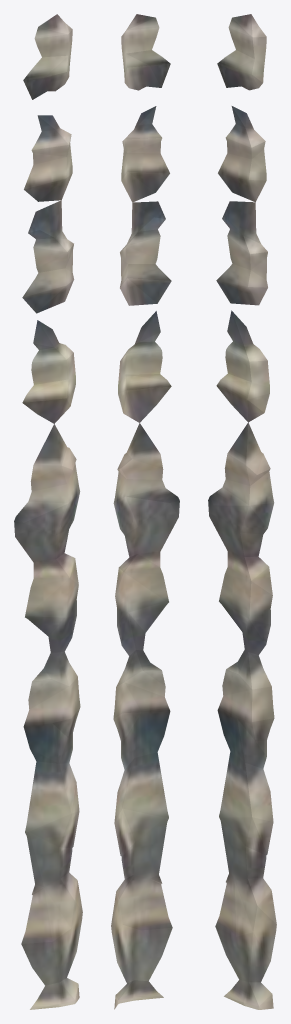
The model's file is Tile_+005_+001_L21_0000110.glb.
3 renders of one model, left to right at view 1: azimuth 30°, elevation 25°; view 2: azimuth 210°, elevation 25°; view 3: azimuth 330°, elevation 25°, orthographic.
Visible parts, largest first — view 1: rtc; view 2: rtc; view 3: rtc.
Boxes of the visible parts, x1,y1,x2,y2 form: rtc: (14, 14, 82, 1009); rtc: (111, 14, 179, 1009); rtc: (208, 14, 276, 1009).
Bounding box in the file's own units: 1.48 × 20.26 × 0.25.
Materials: 1 (1 with a texture image).
